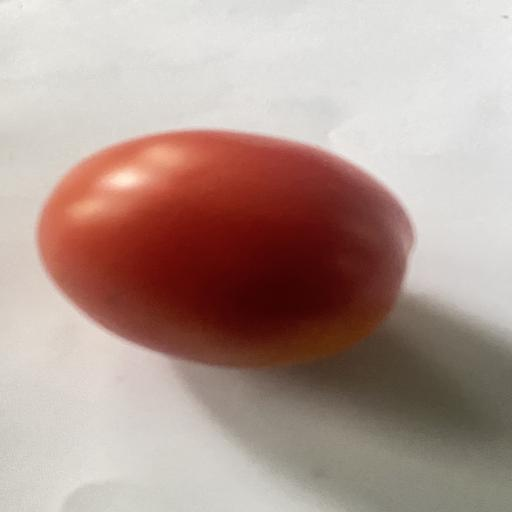ripe: (38, 131, 414, 366)
